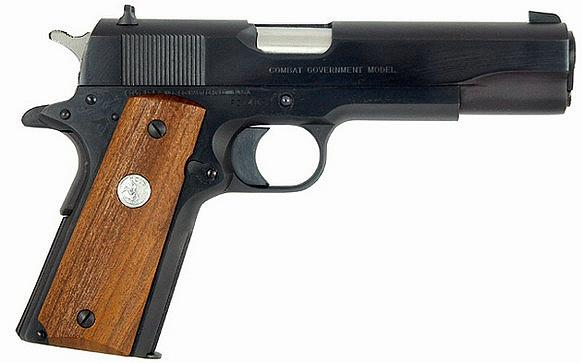gun: (5, 3, 579, 361)
